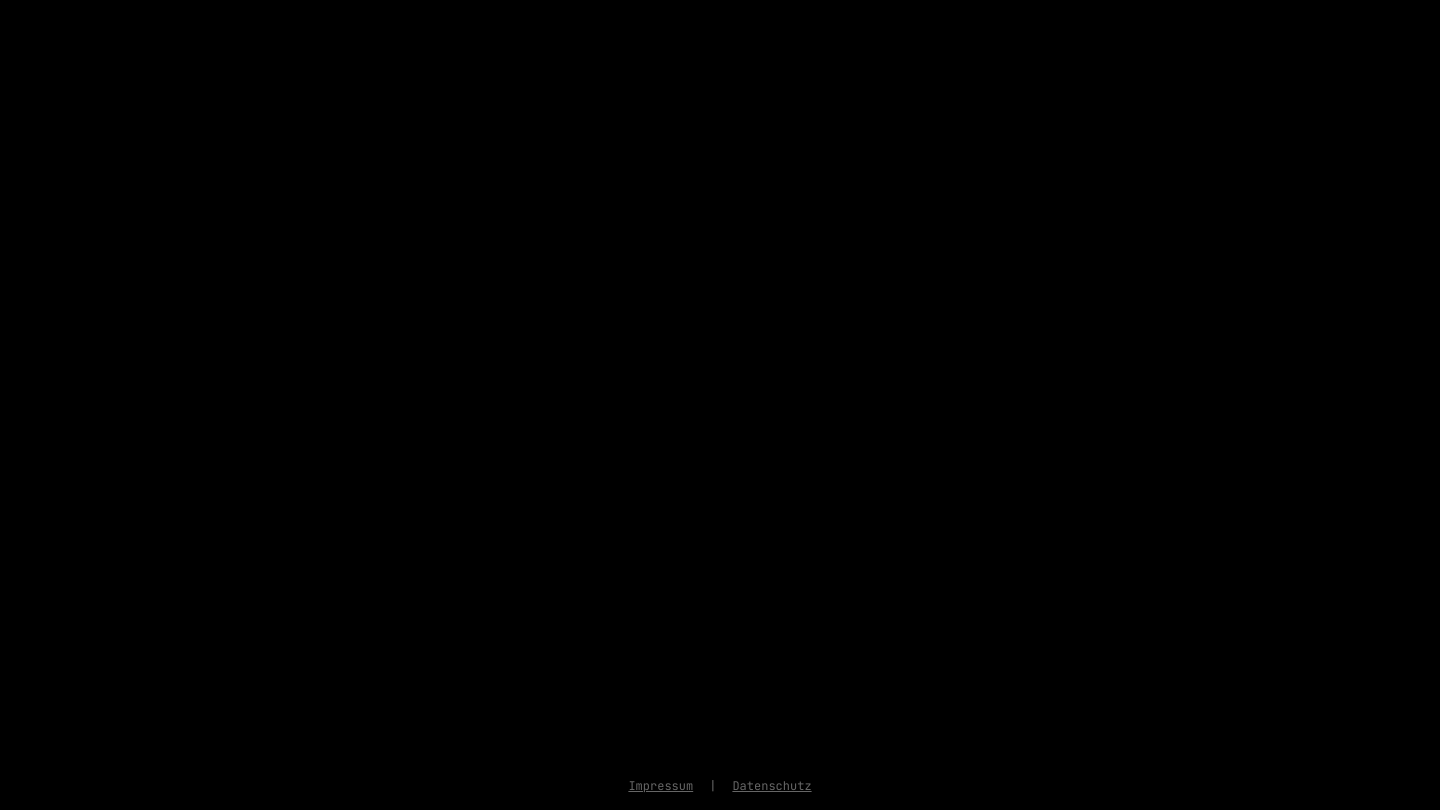
Test: App — main menu arrow-key navigation › hides AUDIT TRAIL in the picker until the secret code is typed
The image size is (1440, 810).
Press Enter
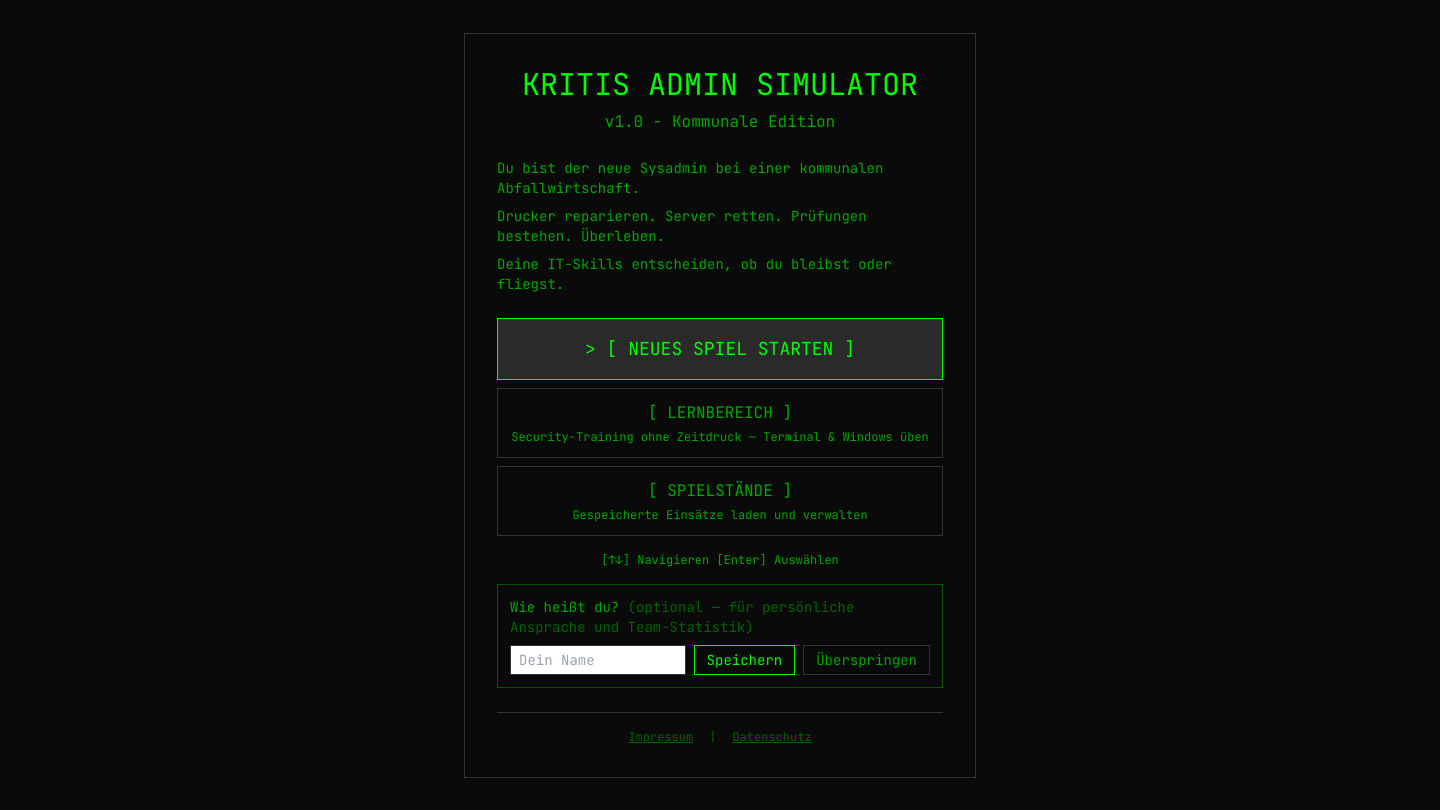
Click the button "> [ NEUES SPIEL STARTEN ]" at (720, 348), box left=497, top=318, right=943, bottom=380
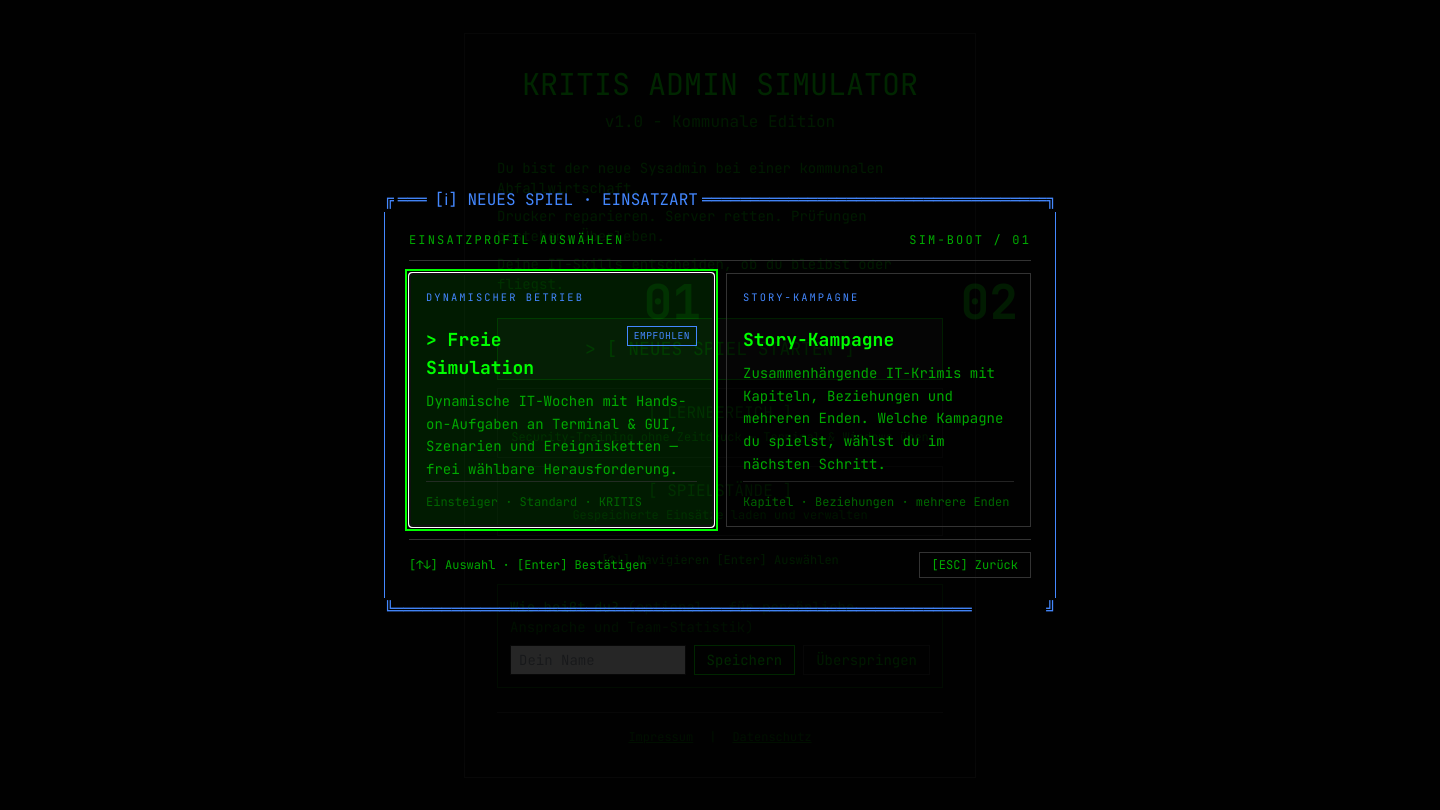
Click the button "STORY-KAMPAGNE" at (878, 400), box left=726, top=273, right=1031, bottom=527
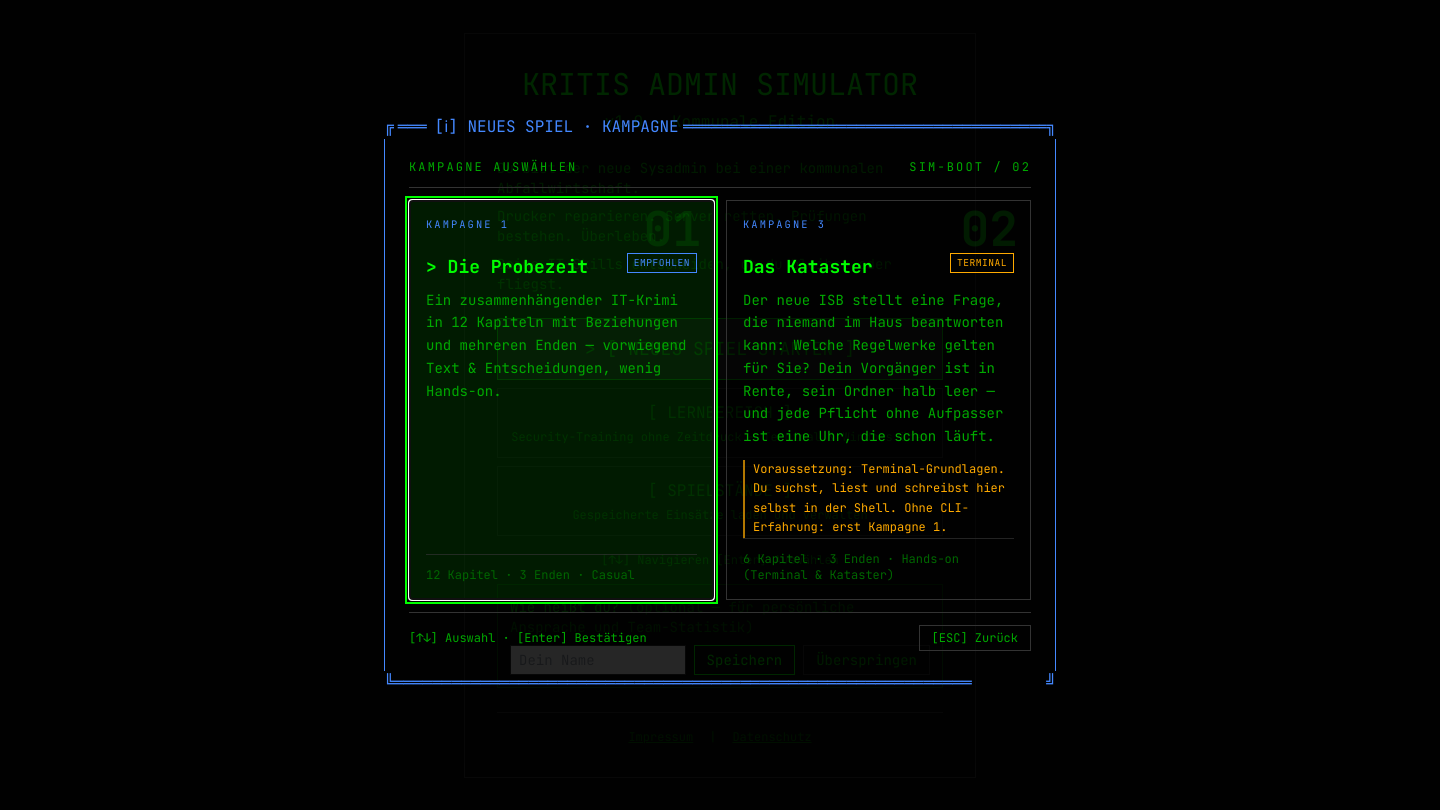
Check: the dialog named "Kampagne wählen" is shown
Check: the button "Die Probezeit" is shown, box left=409, top=200, right=714, bottom=600
